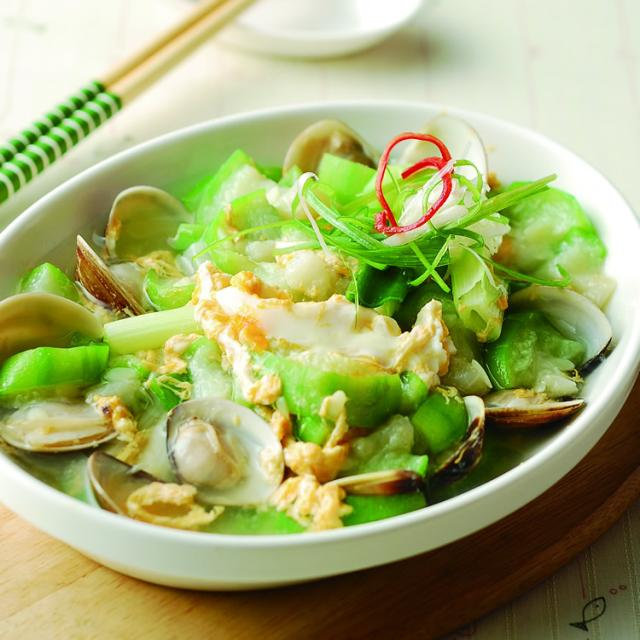Wet: (43, 151, 546, 541)
